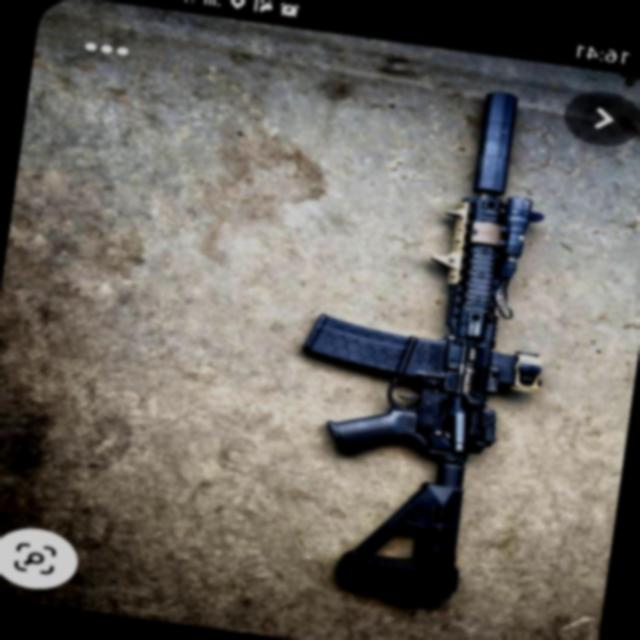m16: (192, 57, 556, 616)
